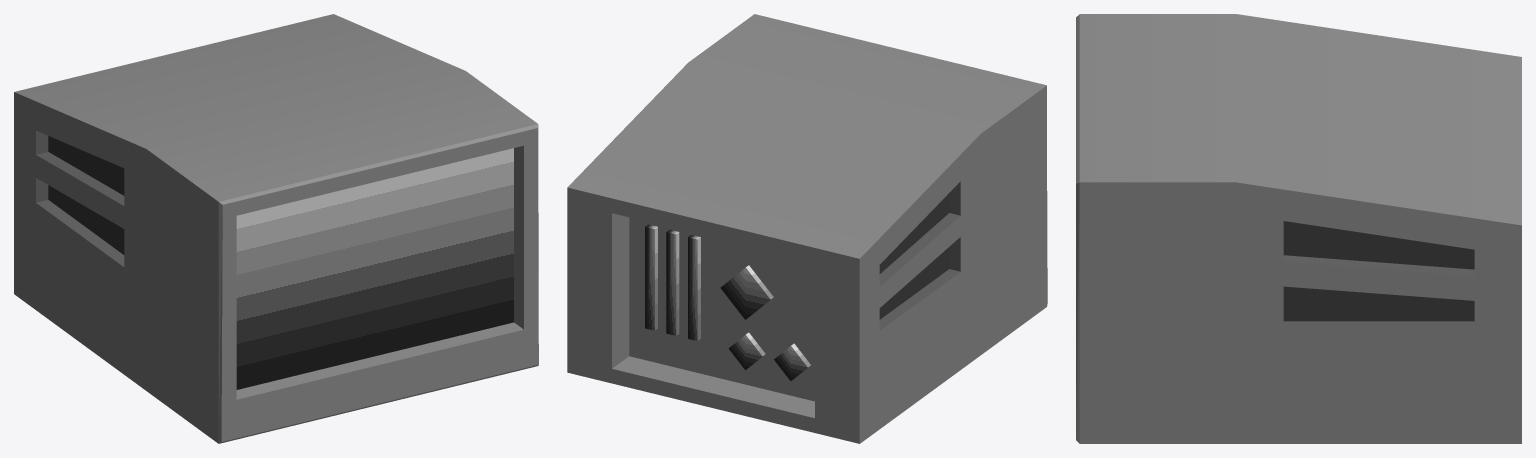
Rendered from monitor_C.FBX.
3 views of the same model, side by side, from view 1: azimuth 30°, elevation 25°; view 2: azimuth 150°, elevation 25°; view 3: azimuth 270°, elevation 25° (orthographic). The views are drawn at different scales.
Visible parts, largest first — view 1: monitor_C, monitor_C_screen; view 2: monitor_C; view 3: monitor_C.
Boxes of the visible parts, x1=… form: monitor_C: x1=14, y1=14, x2=538, y2=443; monitor_C_screen: x1=236, y1=148, x2=513, y2=389; monitor_C: x1=567, y1=14, x2=1047, y2=443; monitor_C: x1=1076, y1=14, x2=1521, y2=443.
Size of the model in its own units: 22.67 by 16.41 by 25.36.
